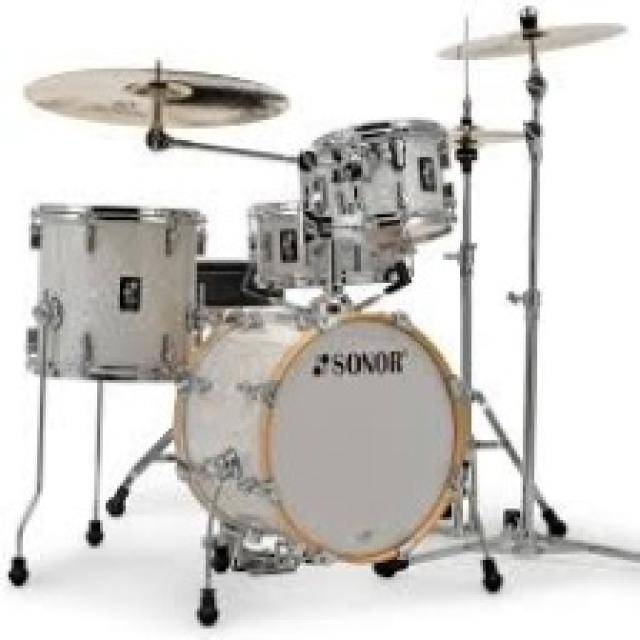drums: (14, 3, 628, 595)
